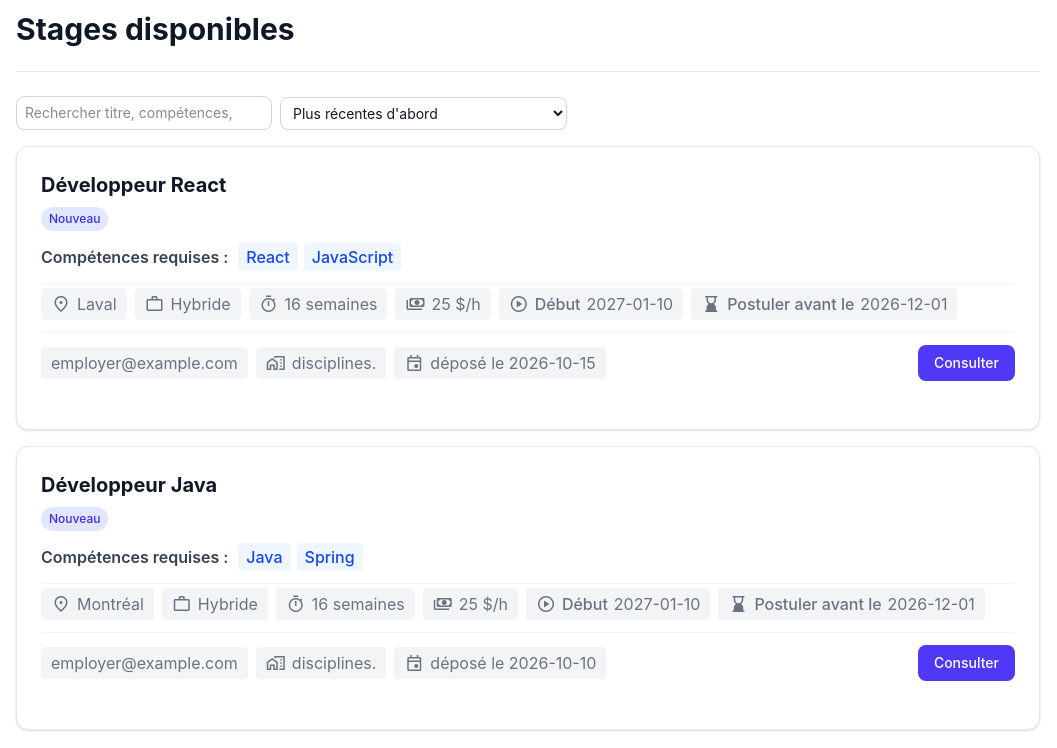
Test: StudentInternships supports searching and sorting › shouldShowNoMatchesWhenSearchHasNoResults
Expected: the heading "Développeur React" is shown, left=41, top=173, right=226, bottom=197
Type "Python Django" into the search field.
click(144, 113); type("Python Django")  # box left=16, top=96, right=272, bottom=130
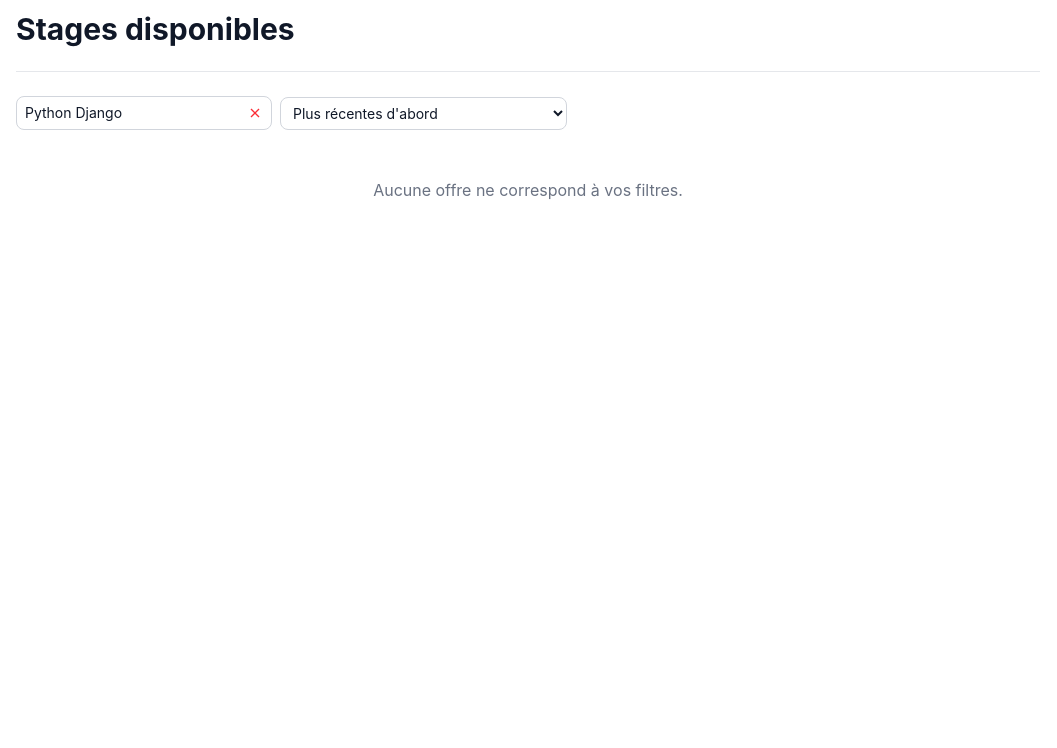
Now the text "Aucune offre ne correspond à vos filtres." is shown, box left=373, top=180, right=683, bottom=200
Now the heading "Développeur Java" is gone
Now the heading "Développeur React" is gone
